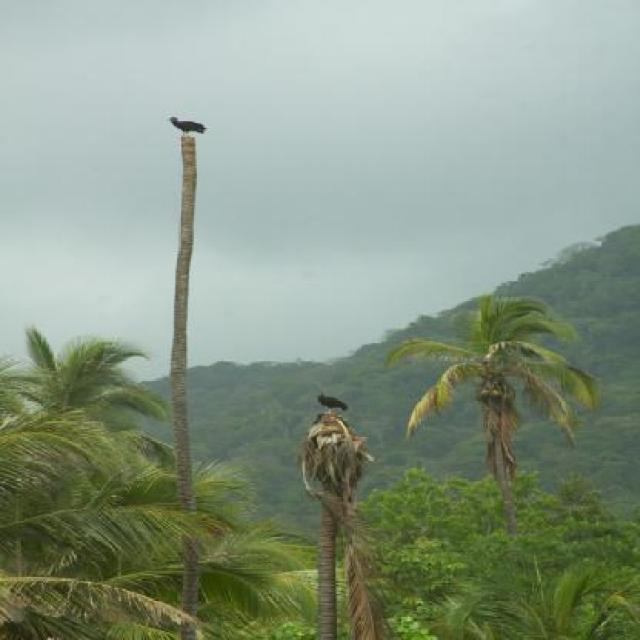Coconut: (474, 382, 506, 404)
